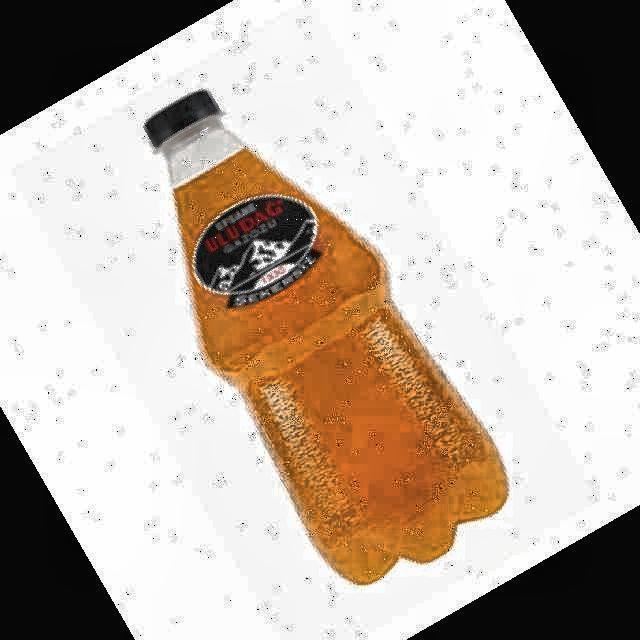plastic: (146, 91, 508, 583)
